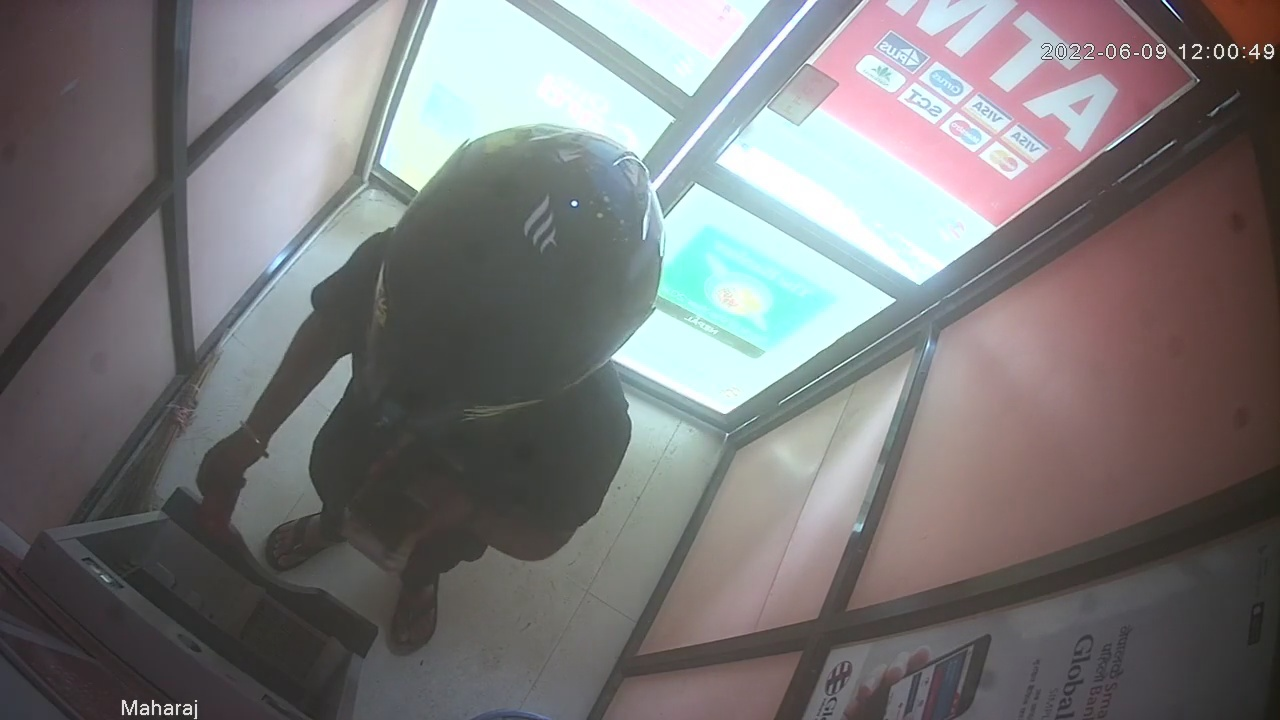helmet: (371, 123, 665, 428)
person: (195, 124, 666, 657)
